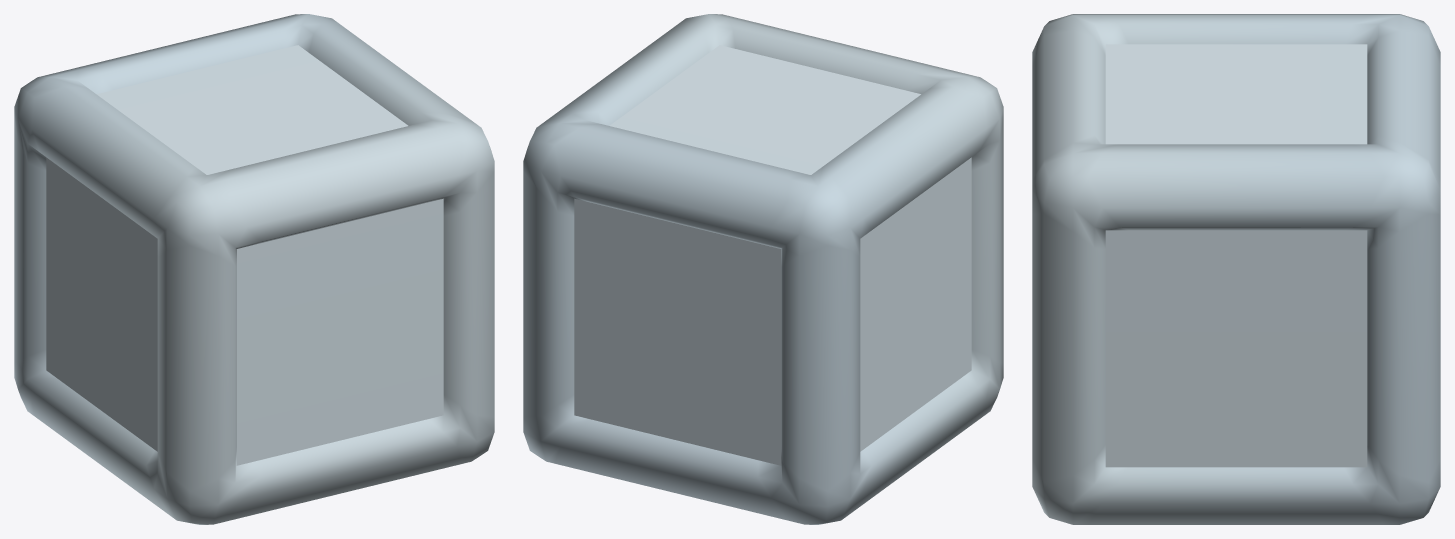
Rendered from Block_White.fbx.
3 renders of one model, left to right at view 1: azimuth 30°, elevation 25°; view 2: azimuth 150°, elevation 25°; view 3: azimuth 270°, elevation 25°, orthographic. The views are drawn at different scales.
Visible parts, largest first — view 1: Block_White; view 2: Block_White; view 3: Block_White.
Boxes of the visible parts, bbox=[...] form: Block_White: bbox=[14, 14, 494, 524]; Block_White: bbox=[523, 14, 1003, 524]; Block_White: bbox=[1032, 14, 1440, 524].
Size of the model in its own units: 100 by 100 by 100.
